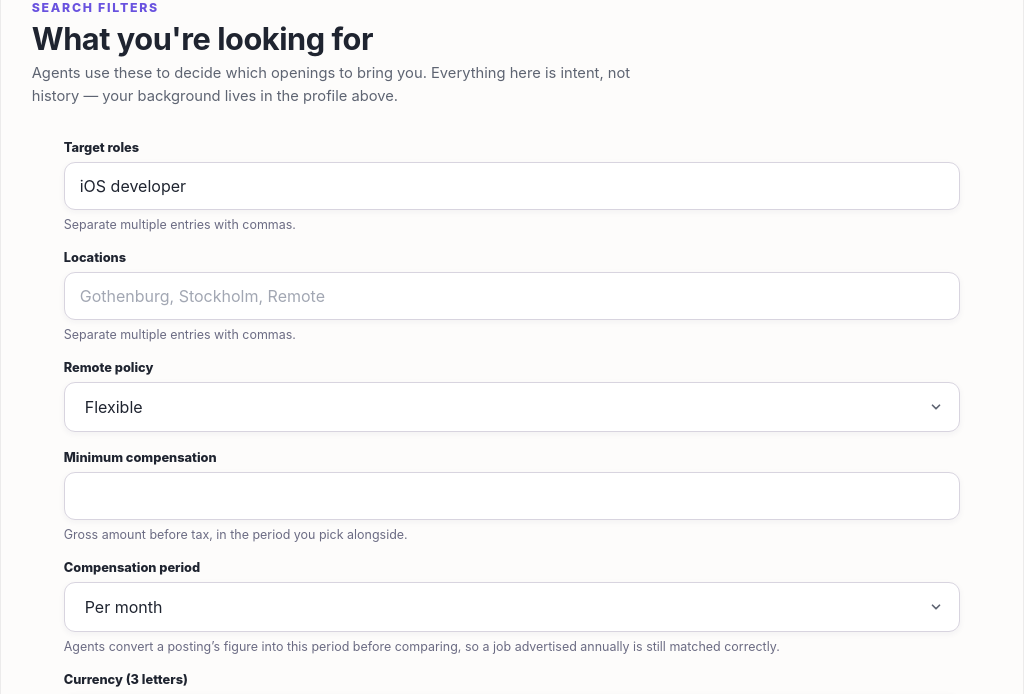
Test: PreferencesTab › normalizes the field once the save succeeds
This screenshot has width=1024, height=694.
Replace the text in the field labelled "Target roles" with "iOS developer,,  Android developer ," at (512,186), box x1=64 y1=162 x2=960 y2=210
(page scrolled)
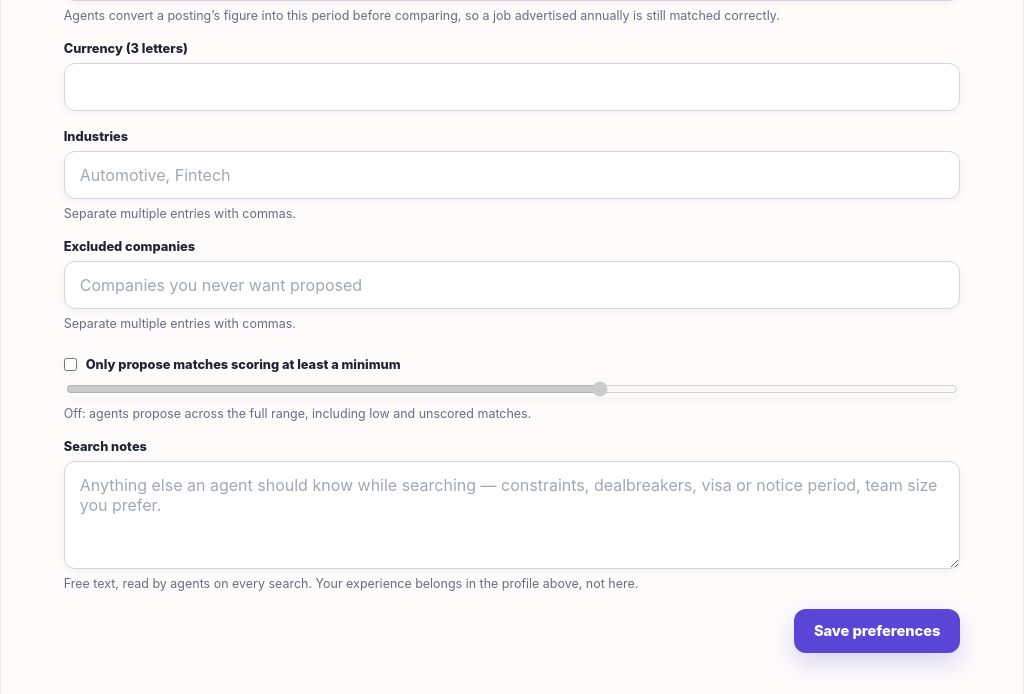
Click the button "Save preferences" at (877,631), box x1=794 y1=609 x2=960 y2=653
(page scrolled)
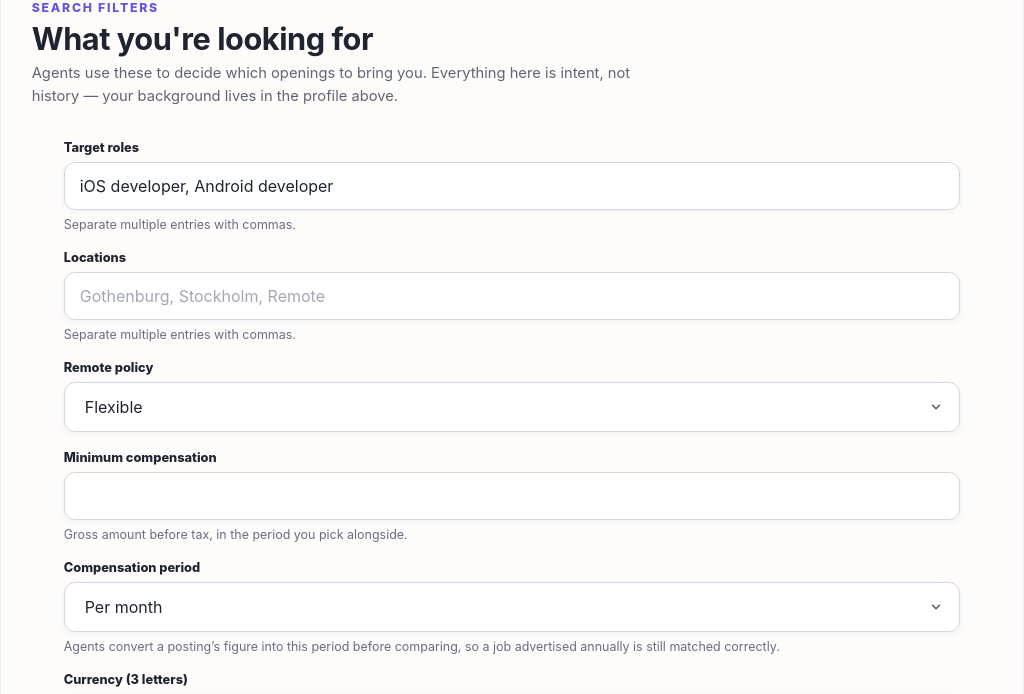
Expected: the field labelled "Target roles" holds "iOS developer, Android developer", x1=64 y1=162 x2=960 y2=210
